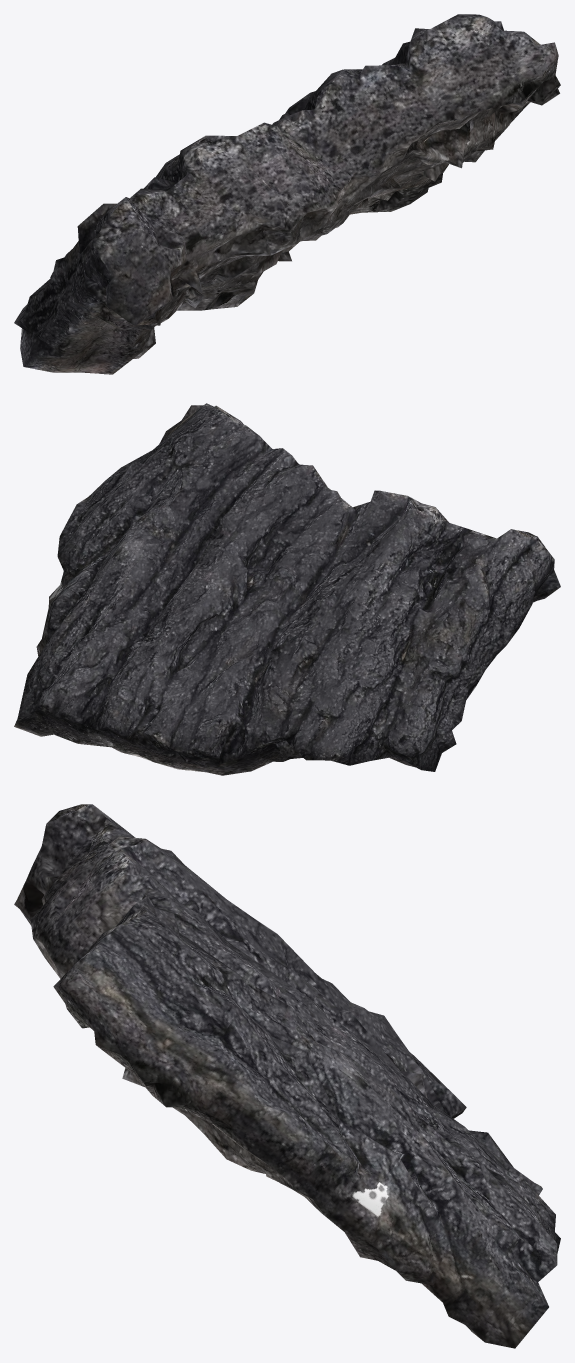
File: rock-pahoehoe-block-kantanat.glb
The picture shows the model from 3 angles, top to bottom: view 1: azimuth 30°, elevation 25°; view 2: azimuth 150°, elevation 25°; view 3: azimuth 270°, elevation 25°; orthographic projection. The views are drawn at different scales.
Parts seen in each view (by area): view 1: rock-pahoehoe-block-kantanat_LOD0; view 2: rock-pahoehoe-block-kantanat_LOD0; view 3: rock-pahoehoe-block-kantanat_LOD0.
Part boxes in pixels (x1,y1,x2,y2): rock-pahoehoe-block-kantanat_LOD0: (14,14,560,374); rock-pahoehoe-block-kantanat_LOD0: (14,403,560,775); rock-pahoehoe-block-kantanat_LOD0: (14,804,560,1348).
Size of what is drawn, in the model's own units: 1.98 by 1.24 by 1.5.
Materials: 1 (1 with a texture image).
